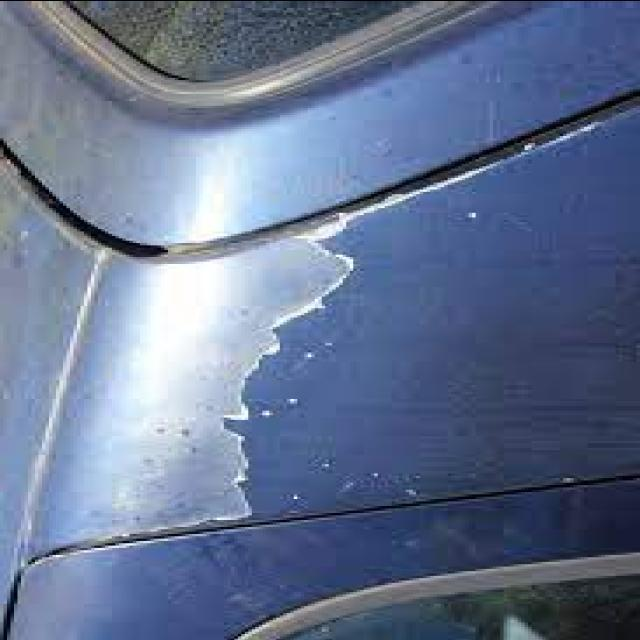paint-chip: (4, 191, 405, 567)
